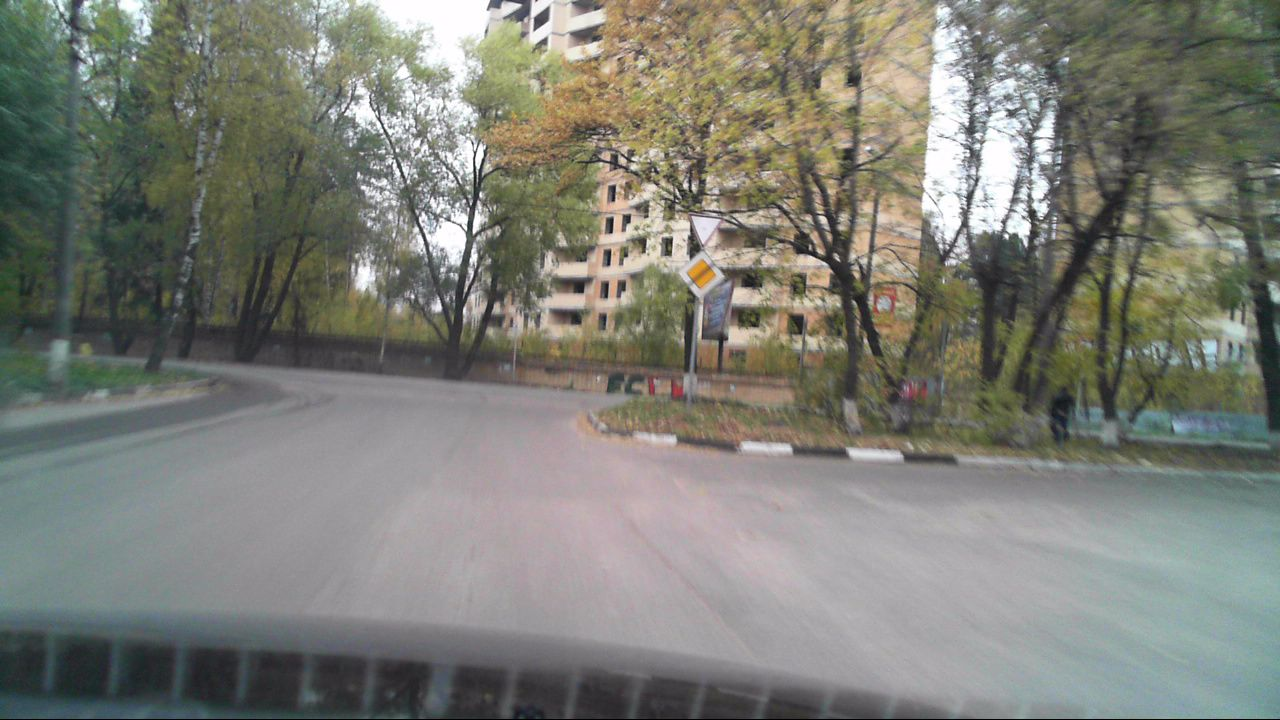main road: (679, 252, 726, 300)
